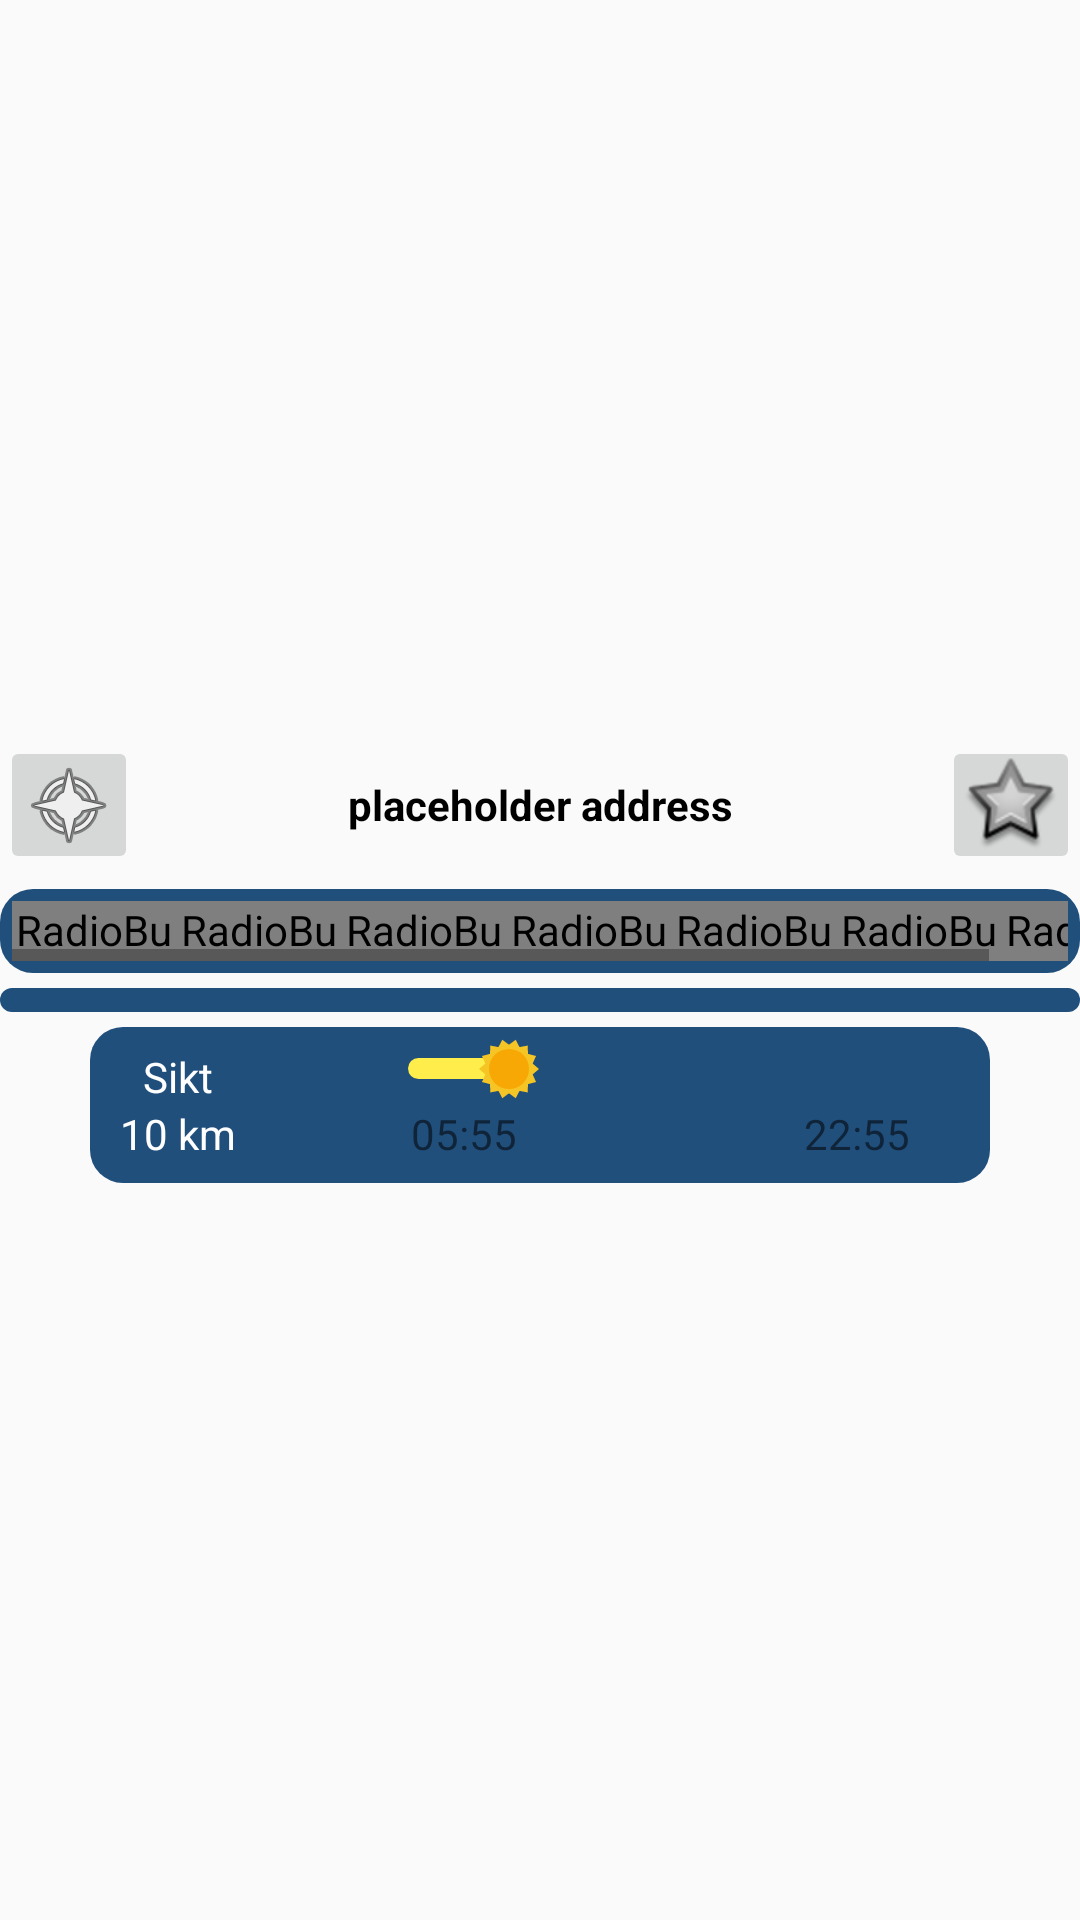

Locate icon controls on the screen. Image size 1080px x 1920px, boxes as (x1,y1,x2,y2).
gå til sted: (12,754,126,856)
lagr sted: (954,754,1068,856)
